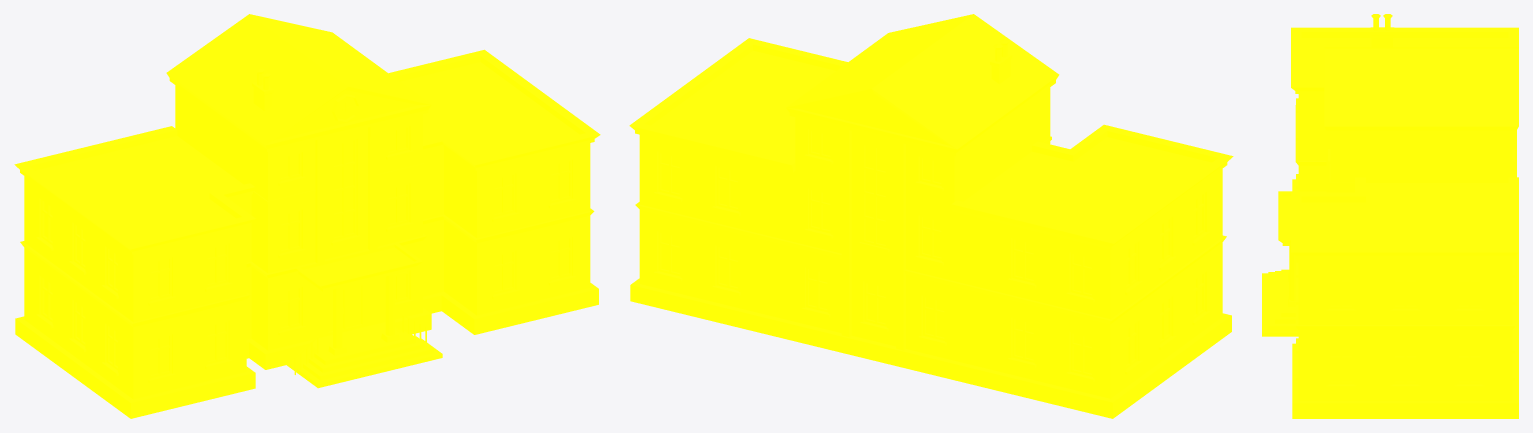
Rendered from building-school.glb.
The picture shows the model from 3 angles, left to right: view 1: azimuth 30°, elevation 25°; view 2: azimuth 150°, elevation 25°; view 3: azimuth 270°, elevation 25°; orthographic projection. The views are drawn at different scales.
Parts seen in each view (by area): view 1: building-school; view 2: building-school; view 3: building-school.
Part boxes in pixels (<box>): building-school: <box>14,14,600,418</box>; building-school: <box>629,14,1233,418</box>; building-school: <box>1262,14,1518,418</box>.
Bounding box in the file's own units: 24.9 × 13.72 × 12.01.
1 material, 1 textured.
